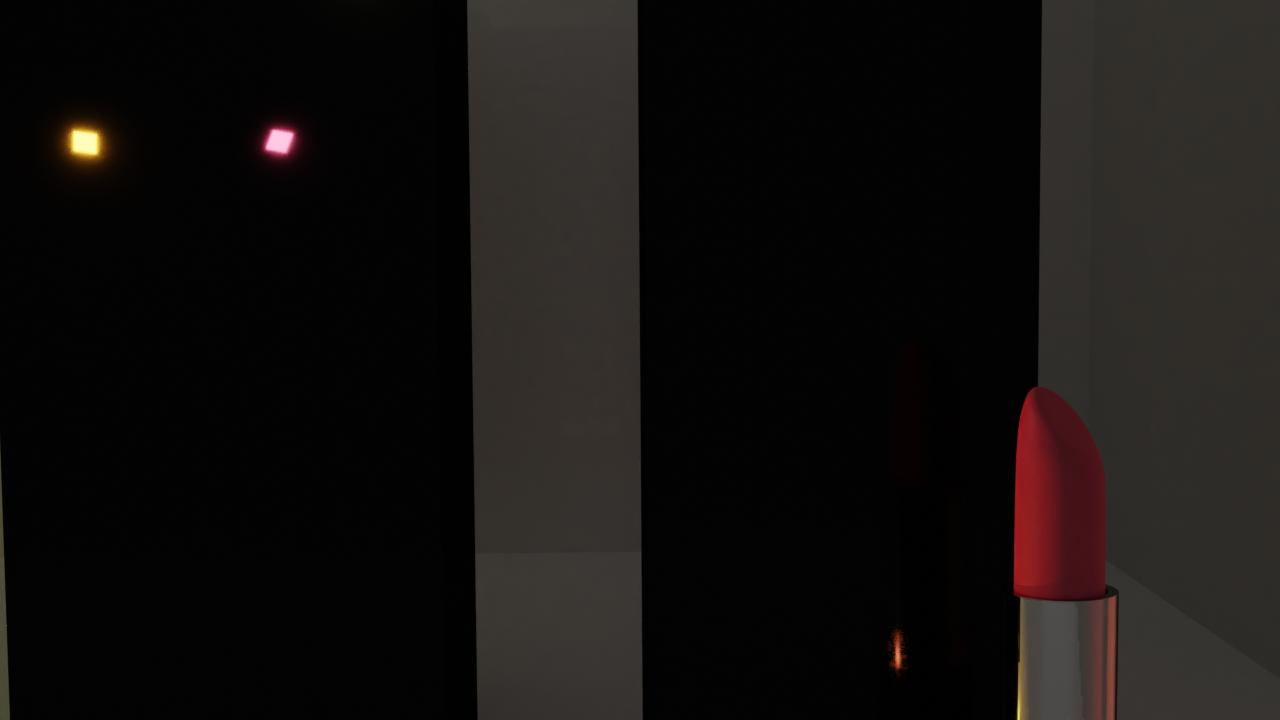CLASSIFIER_NAME: (985, 378, 1127, 720)
